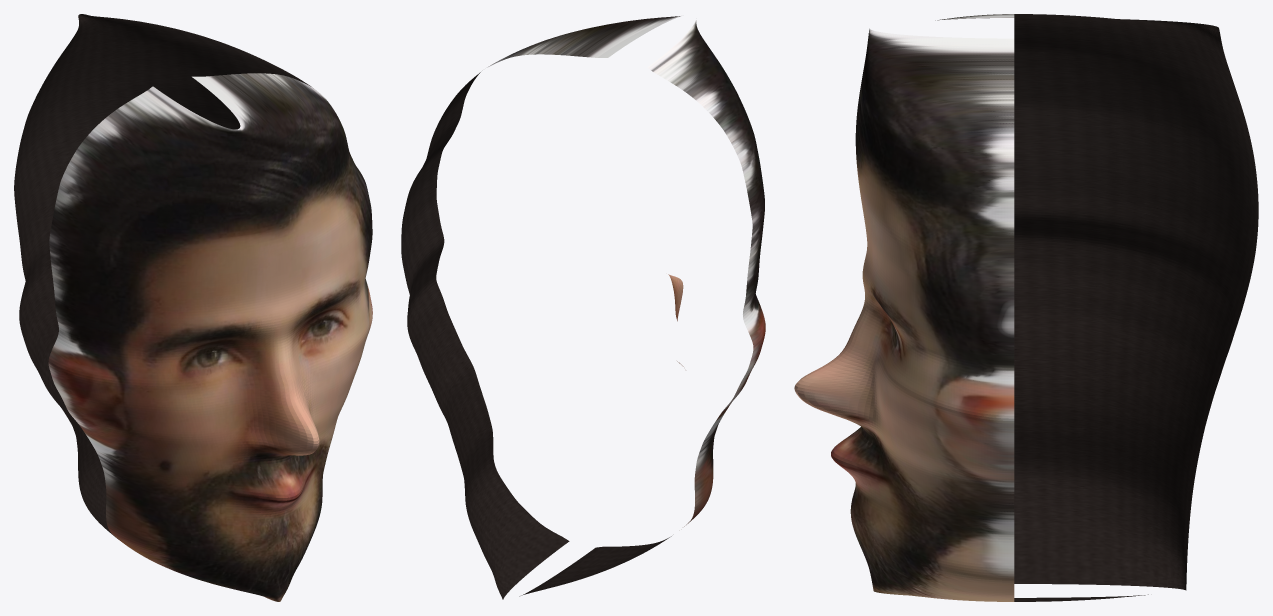
The model's file is barista_face.glb.
The picture shows the model from 3 angles, left to right: view 1: azimuth 30°, elevation 25°; view 2: azimuth 150°, elevation 25°; view 3: azimuth 270°, elevation 25°; orthographic projection. The views are drawn at different scales.
Parts seen in each view (by area): view 1: Face_Front, Head_Back; view 2: Head_Back, Face_Front; view 3: Head_Back, Face_Front.
Boxes of the visible parts, box(x1,y1,x2,y2) form: Face_Front: box(48, 73, 372, 601); Head_Back: box(14, 14, 311, 539); Head_Back: box(401, 72, 671, 599); Face_Front: box(487, 16, 765, 526); Head_Back: box(1014, 14, 1258, 601); Face_Front: box(794, 14, 1014, 601).
Bounding box in the file's own units: 0.174 × 0.2581 × 0.2015.
Materials: 2 (2 with a texture image).
